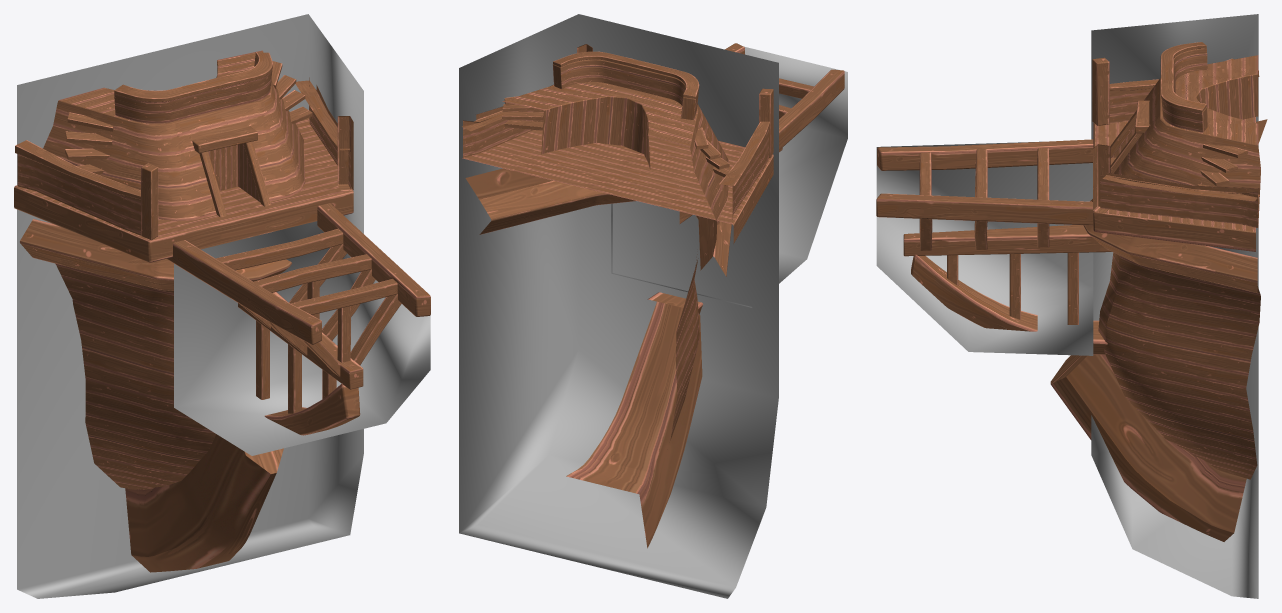
The model's file is SM_Building_ShipPart_01a.gltf.
3 views of the same model, side by side, from view 1: azimuth 30°, elevation 25°; view 2: azimuth 150°, elevation 25°; view 3: azimuth 270°, elevation 25° (orthographic). The views are drawn at different scales.
Visible parts, largest first — view 1: SM_Building_ShipPart_01a_LOD0, SM_Building_ShipPart_01a_ConvexHulls; view 2: SM_Building_ShipPart_01a_ConvexHulls, SM_Building_ShipPart_01a_LOD0; view 3: SM_Building_ShipPart_01a_LOD0, SM_Building_ShipPart_01a_ConvexHulls.
Part boxes in pixels (x1,y1,x2,y2): SM_Building_ShipPart_01a_LOD0: (14,50,430,572); SM_Building_ShipPart_01a_ConvexHulls: (17,14,430,598); SM_Building_ShipPart_01a_ConvexHulls: (459,14,847,598); SM_Building_ShipPart_01a_LOD0: (462,43,844,548); SM_Building_ShipPart_01a_LOD0: (876,42,1267,541); SM_Building_ShipPart_01a_ConvexHulls: (876,14,1258,598).
Size of what is drawn, in the model's own units: 6.22 by 10.2 by 7.86.
Materials: 3 (2 with a texture image).
